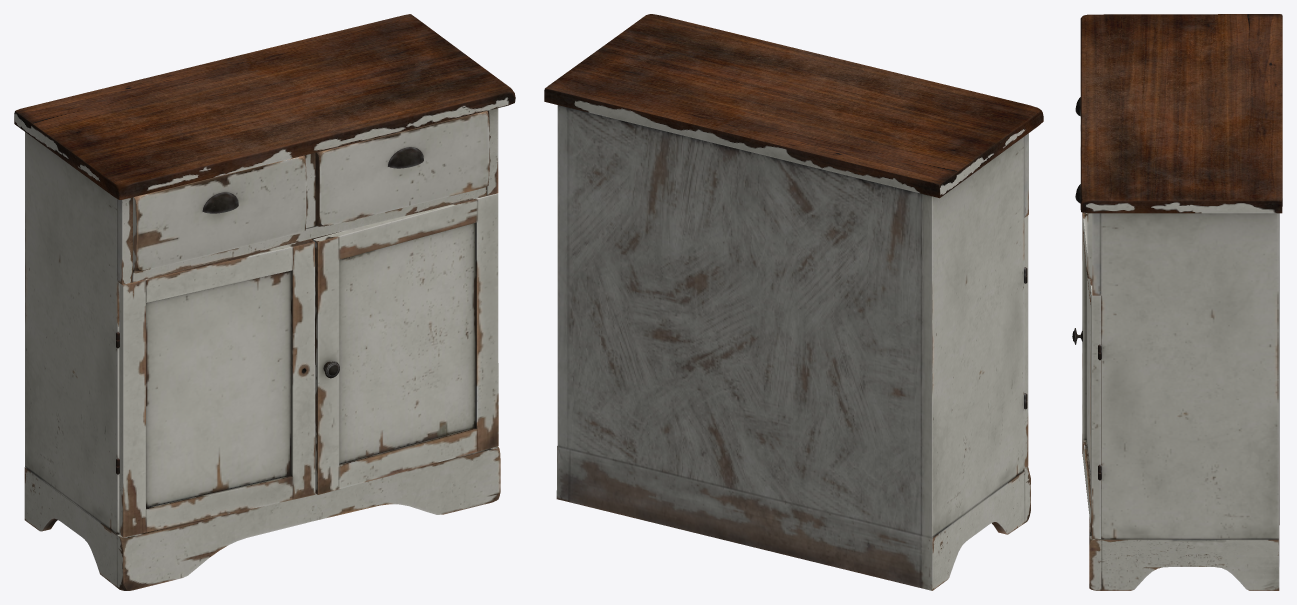
Rendered from painted_wooden_cabinet.fbx.
3 views of the same model, side by side, from view 1: azimuth 30°, elevation 25°; view 2: azimuth 150°, elevation 25°; view 3: azimuth 270°, elevation 25° (orthographic). The views are drawn at different scales.
Visible parts, largest first — view 1: cabinet, door_1, door_2, drawer_2, drawer_1; view 2: cabinet, door_1; view 3: cabinet, door_2, drawer_2.
Part boxes in pixels (box(x1,y1,x2,y2)): cabinet: box(14, 14, 515, 590); door_1: box(119, 239, 315, 537); door_2: box(313, 193, 498, 494); drawer_2: box(315, 111, 489, 226); drawer_1: box(133, 155, 306, 270); cabinet: box(544, 14, 1043, 590); door_1: box(1024, 215, 1028, 468); cabinet: box(1080, 14, 1282, 590); door_2: box(1072, 212, 1100, 538); drawer_2: box(1075, 184, 1092, 279).
Bounding box in the file's own units: 119 × 118 × 56.84.
